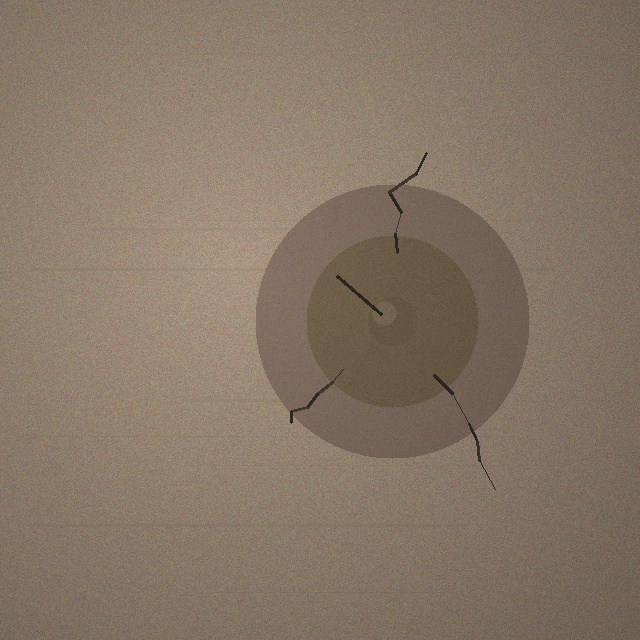crack: (255, 184, 529, 458)
